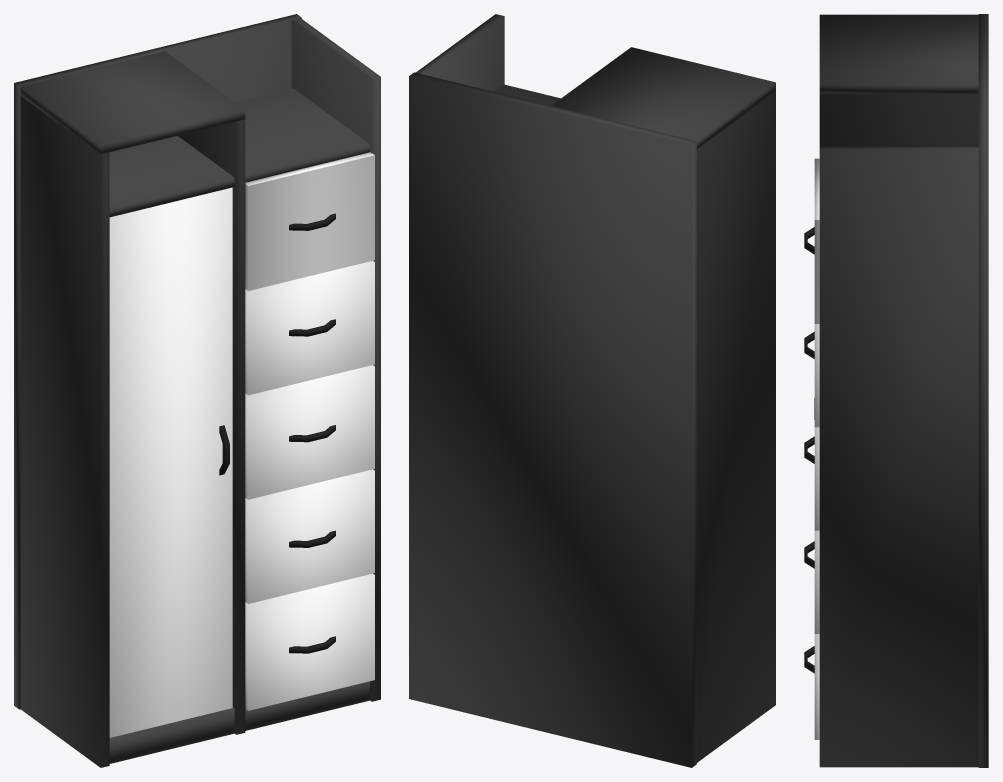
The model's file is closet.glb.
The picture shows the model from 3 angles, left to right: view 1: azimuth 30°, elevation 25°; view 2: azimuth 150°, elevation 25°; view 3: azimuth 270°, elevation 25°; orthographic projection.
Parts seen in each view (by area): view 1: closet_001; view 2: closet_001; view 3: closet_001.
Part boxes in pixels (x1,y1,x2,y2): closet_001: [14, 14, 380, 767]; closet_001: [409, 14, 775, 767]; closet_001: [804, 14, 988, 767].
Size of the model in its own units: 2.55 by 5.38 by 1.46.
1 material, 1 textured.
